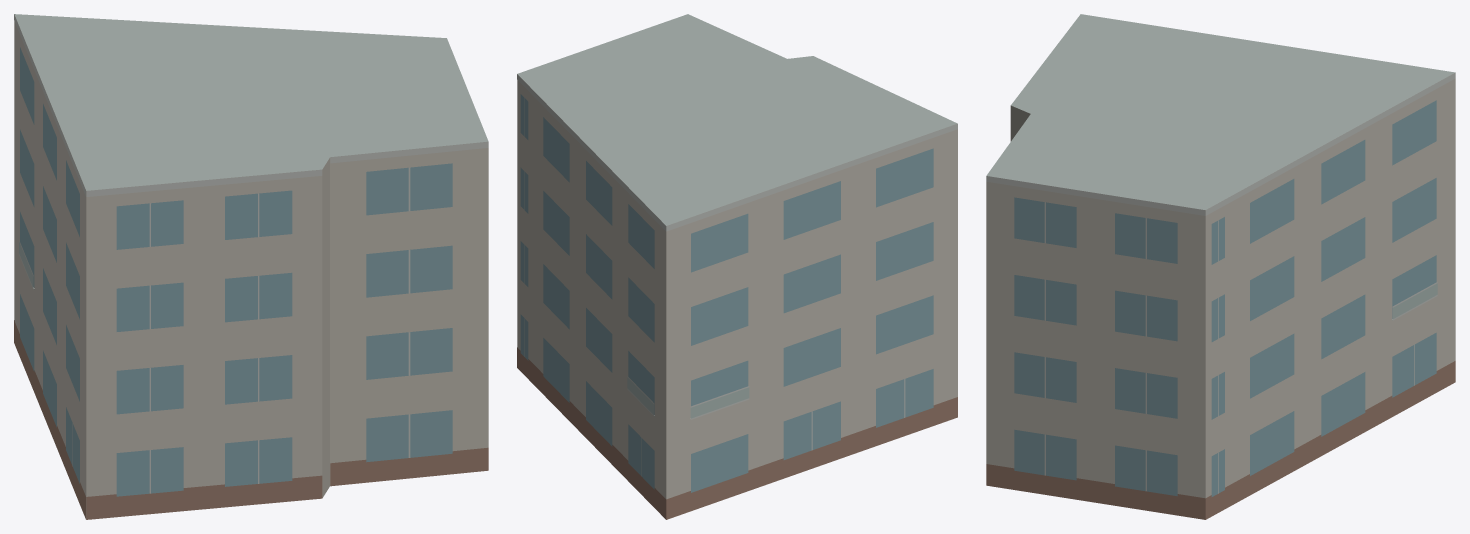
Rendered from survey-upis-32507517.glb.
3 views of the same model, side by side, from view 1: azimuth 30°, elevation 25°; view 2: azimuth 150°, elevation 25°; view 3: azimuth 270°, elevation 25° (orthographic). The views are drawn at different scales.
Visible parts, largest first — view 1: survey-upis-32507517.tmp; view 2: survey-upis-32507517.tmp; view 3: survey-upis-32507517.tmp.
Boxes of the visible parts, x1,y1,x2,y2 form: survey-upis-32507517.tmp: (14, 14, 488, 519); survey-upis-32507517.tmp: (517, 14, 957, 519); survey-upis-32507517.tmp: (986, 14, 1455, 519).
Bounding box in the file's own units: 17.45 × 12.84 × 17.65.
